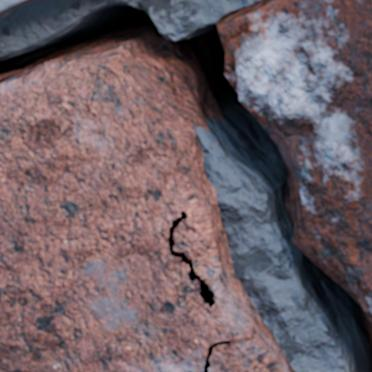brick: (0, 45, 293, 371), (217, 0, 371, 320), (0, 0, 37, 19)
crack: (0, 0, 371, 371), (203, 340, 231, 371)
